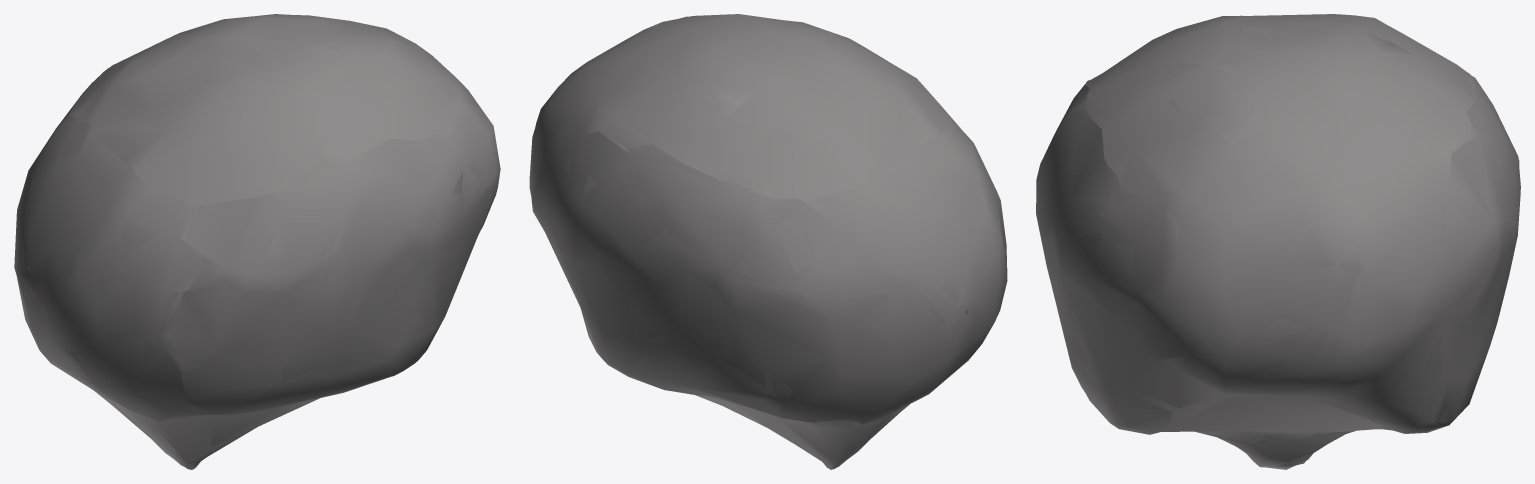
The model's file is Cervello.glb.
The picture shows the model from 3 angles, left to right: view 1: azimuth 30°, elevation 25°; view 2: azimuth 150°, elevation 25°; view 3: azimuth 270°, elevation 25°; orthographic projection. The views are drawn at different scales.
Visible parts, largest first — view 1: Cube; view 2: Cube; view 3: Cube.
Boxes of the visible parts, left/top/right/bottom form: Cube: left=14, top=14, right=500, bottom=469; Cube: left=529, top=14, right=1007, bottom=469; Cube: left=1036, top=14, right=1520, bottom=469.
Bounding box in the file's own units: 2.01 × 1.83 × 1.67.
2 materials, 1 textured.
